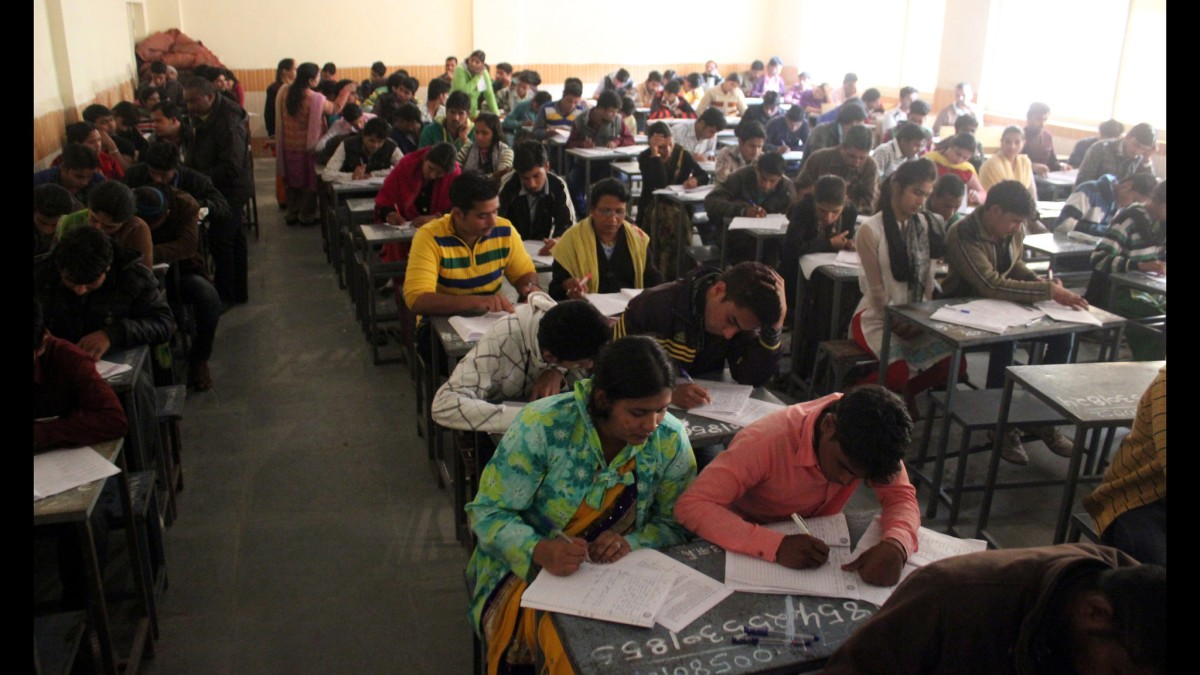invigilator: (183, 77, 259, 305), (264, 57, 347, 224), (447, 45, 496, 135)
student: (733, 375, 957, 604), (381, 177, 560, 332), (618, 242, 812, 385), (454, 256, 645, 388), (847, 158, 973, 327), (46, 212, 179, 361), (950, 177, 1086, 311), (366, 130, 478, 239), (573, 185, 665, 304), (779, 152, 873, 265), (489, 145, 588, 247), (709, 138, 818, 225), (630, 121, 716, 201), (130, 141, 218, 207), (971, 124, 1047, 195), (1020, 88, 1085, 171), (367, 62, 425, 134), (47, 128, 103, 200), (69, 94, 123, 162), (429, 93, 481, 152), (945, 78, 987, 125)
studentcopying: (500, 330, 731, 585)
